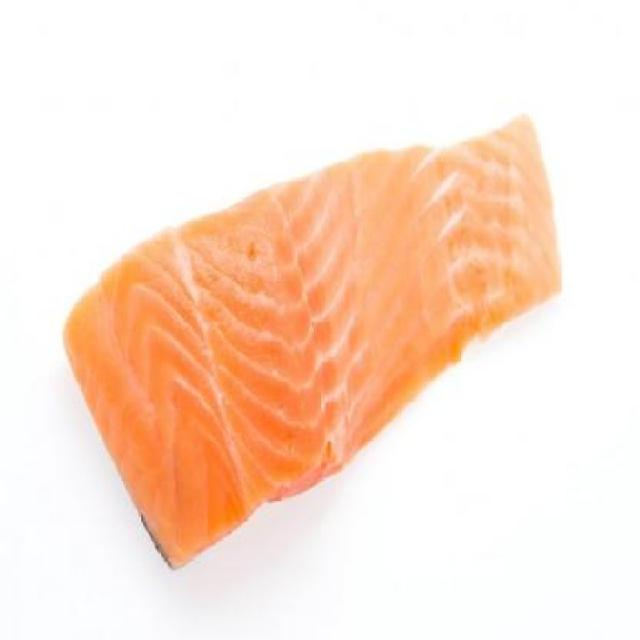salmon: (63, 95, 574, 612)
